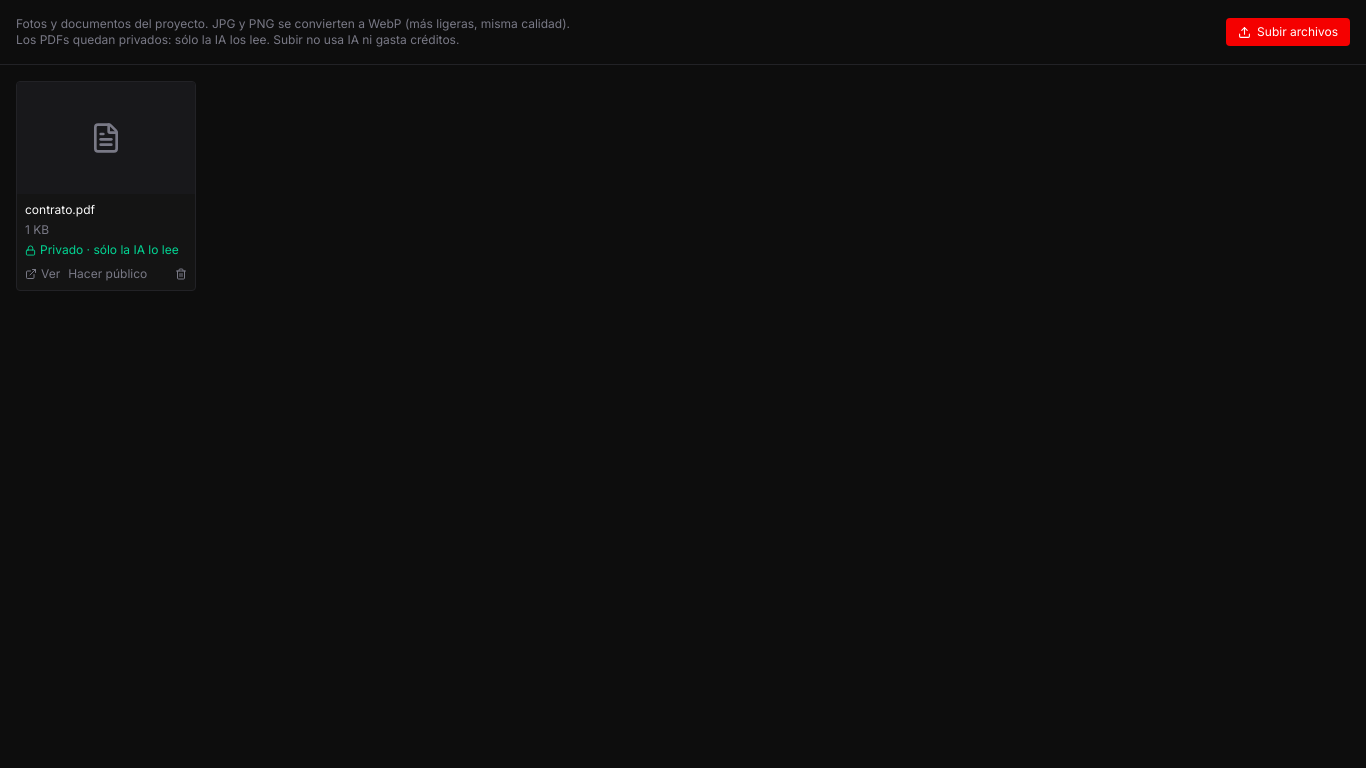
Scenario: AssetsPanel › PDF privado: se ve con dirección temporal y se hace público sólo tras confirmar
Check: the text "Privado · sólo la IA lo lee" is shown, box [25,242,187,258]
Check: the button "Copiar dirección" is not shown
Click the button "Ver". click: (43, 274)
box: [25,266,60,282]
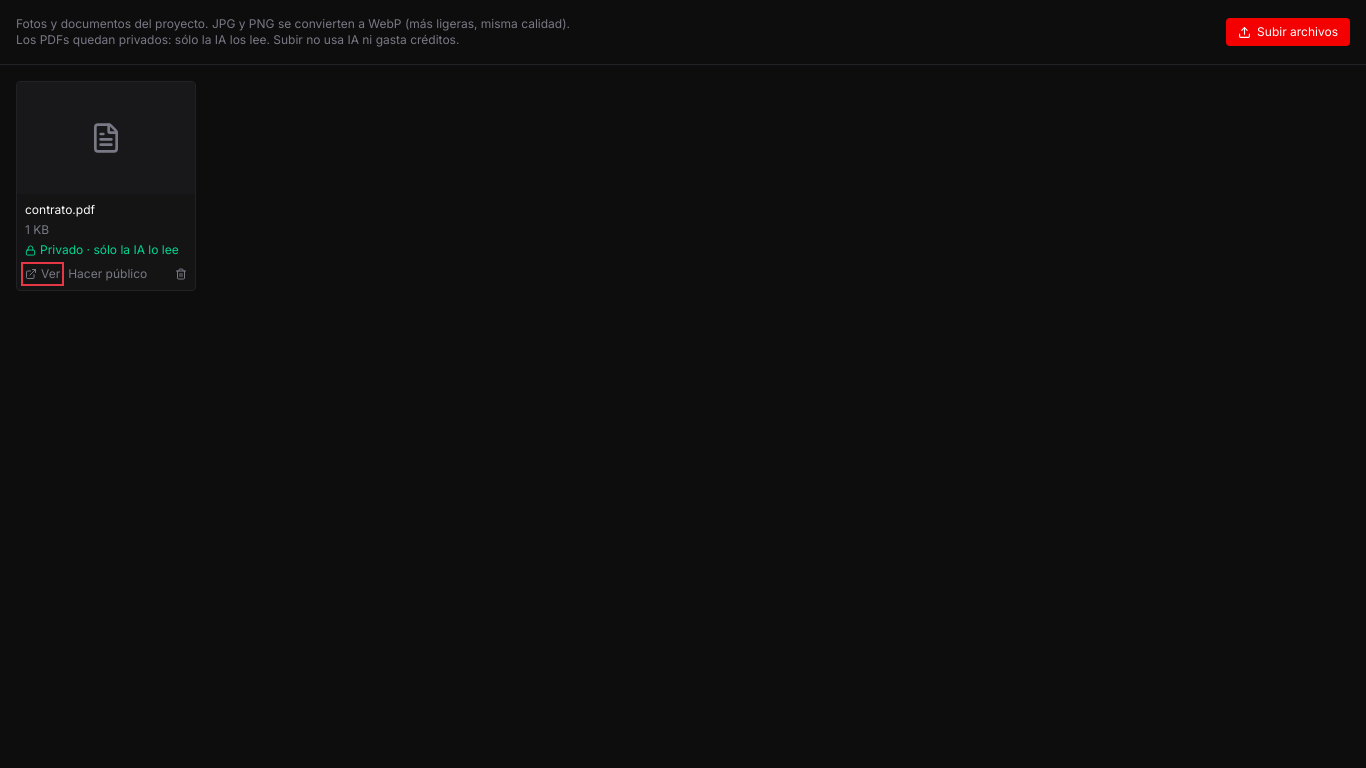
Click the button "Hacer público". click: (108, 274)
box: [68,266,147,282]
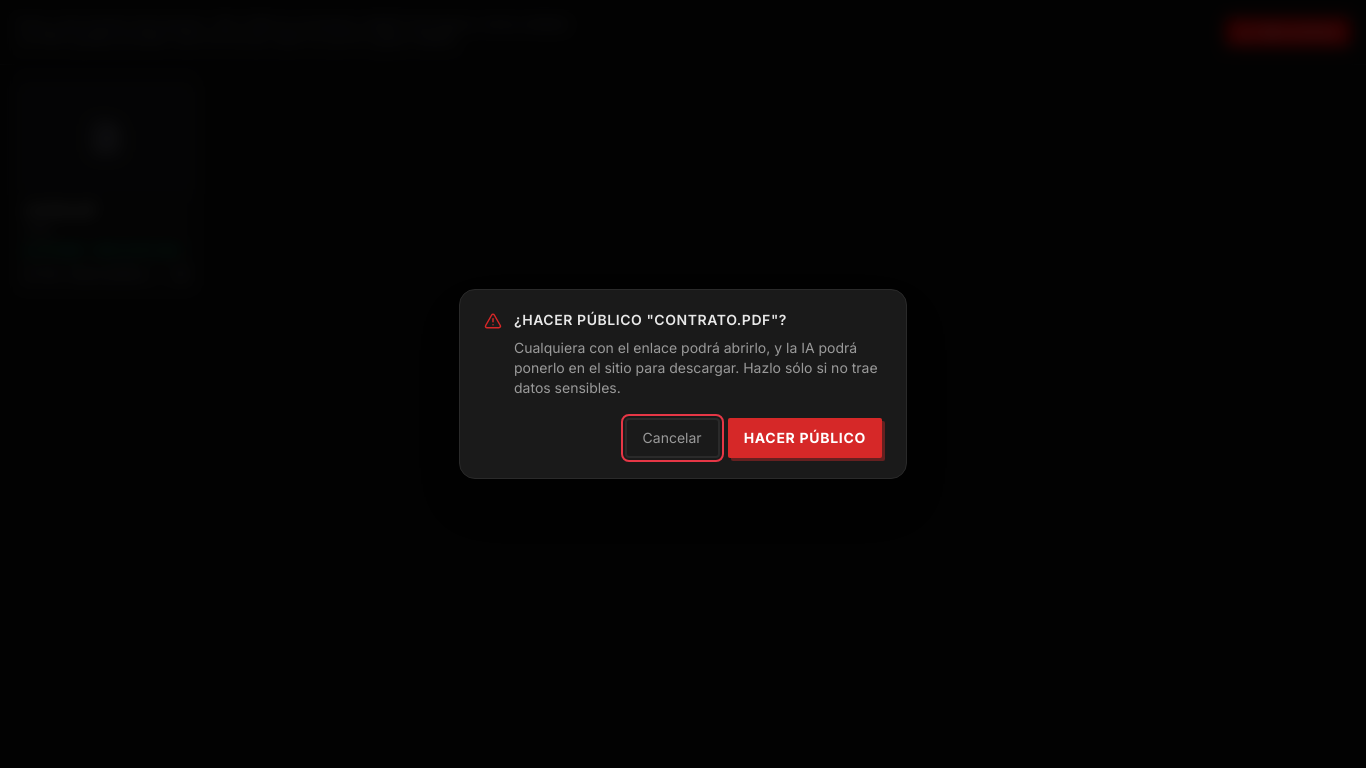
Check: the heading "¿Hacer público \"contrato.pdf\"?" is shown, box [514,311,787,328]
Click the button "Cancelar". click: (672, 438)
box: [625,418,720,458]
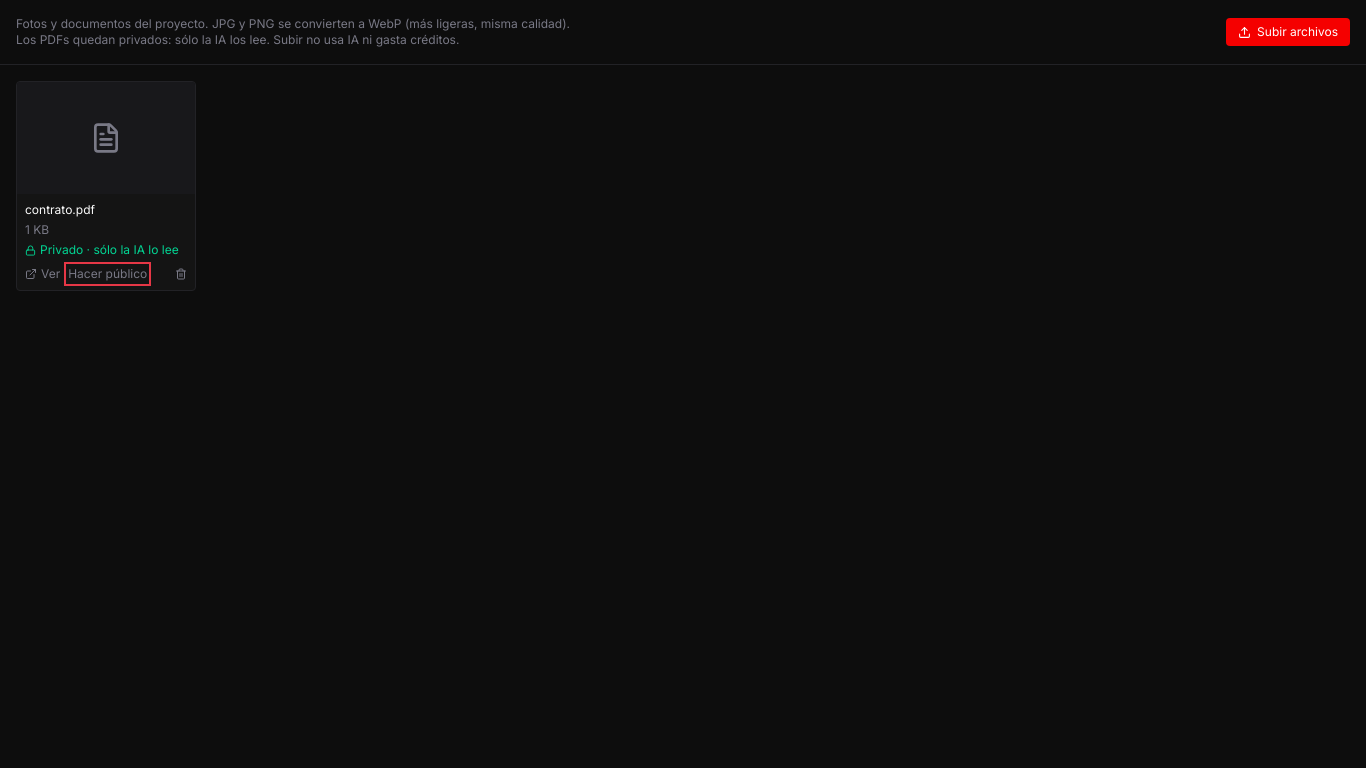
Check: the dialog is gone
Click the button "Hacer público". click: (108, 274)
box: [68,266,147,282]
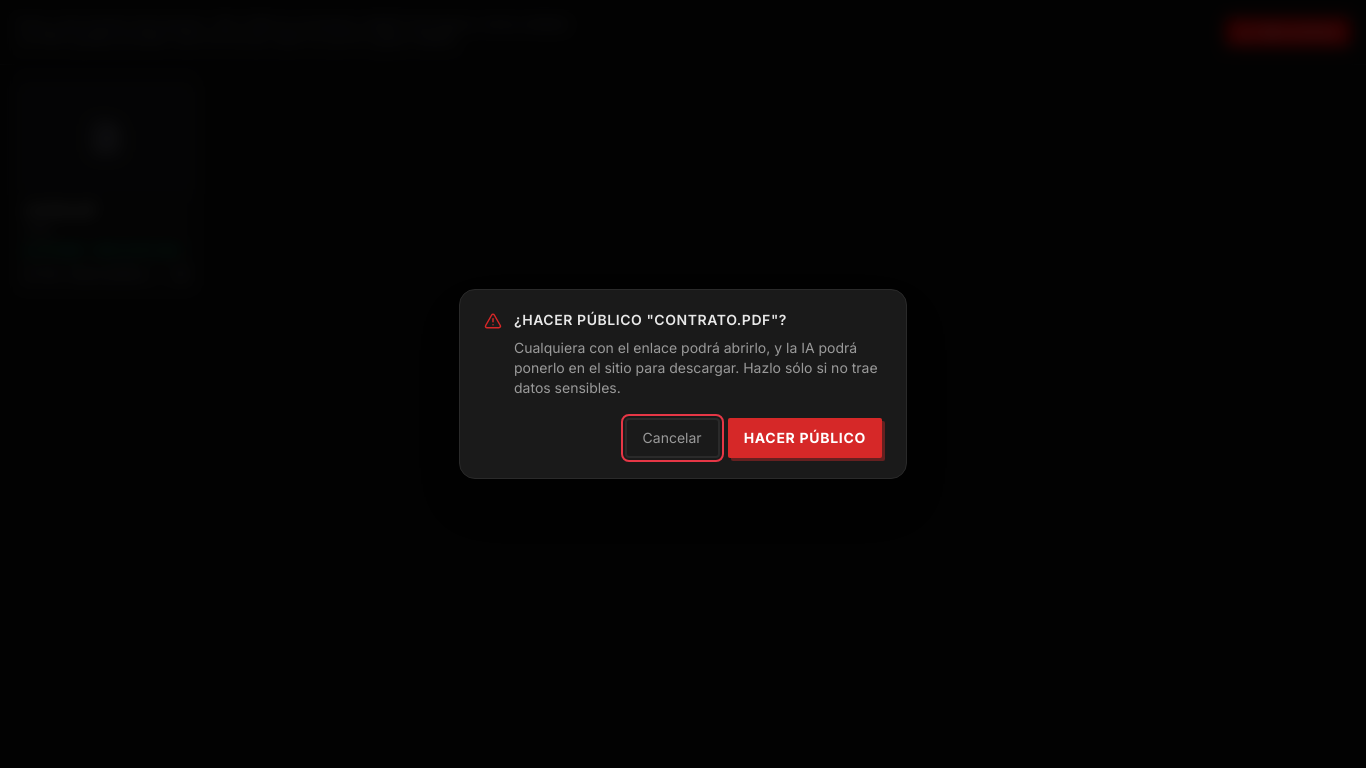
Click the button "Hacer público". click: (805, 438)
box: [728,418,882,458]
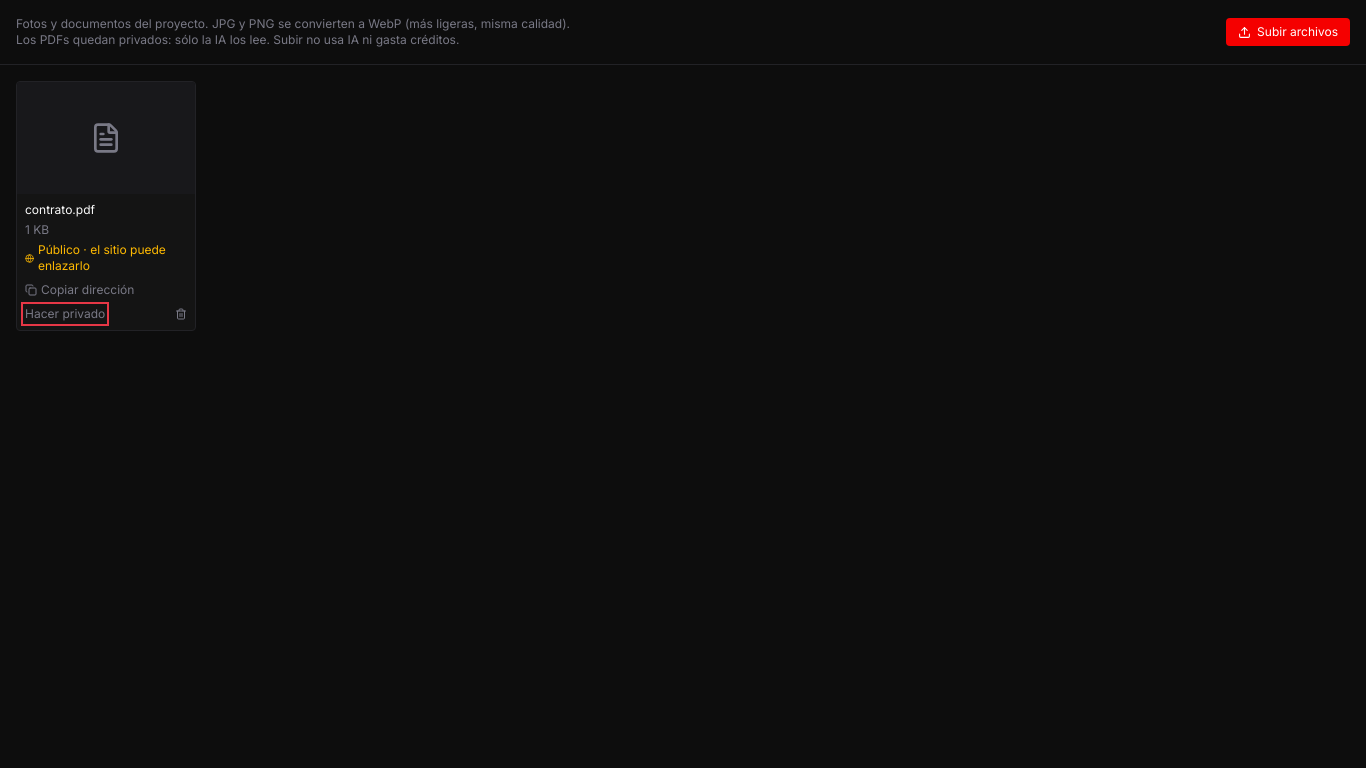
Check: the text "Público · el sitio puede enlazarlo" is shown, box [25,242,187,274]
Check: the button "Copiar dirección" is shown, box [25,282,134,298]
Check: the button "Hacer privado" is shown, box [25,306,105,322]
